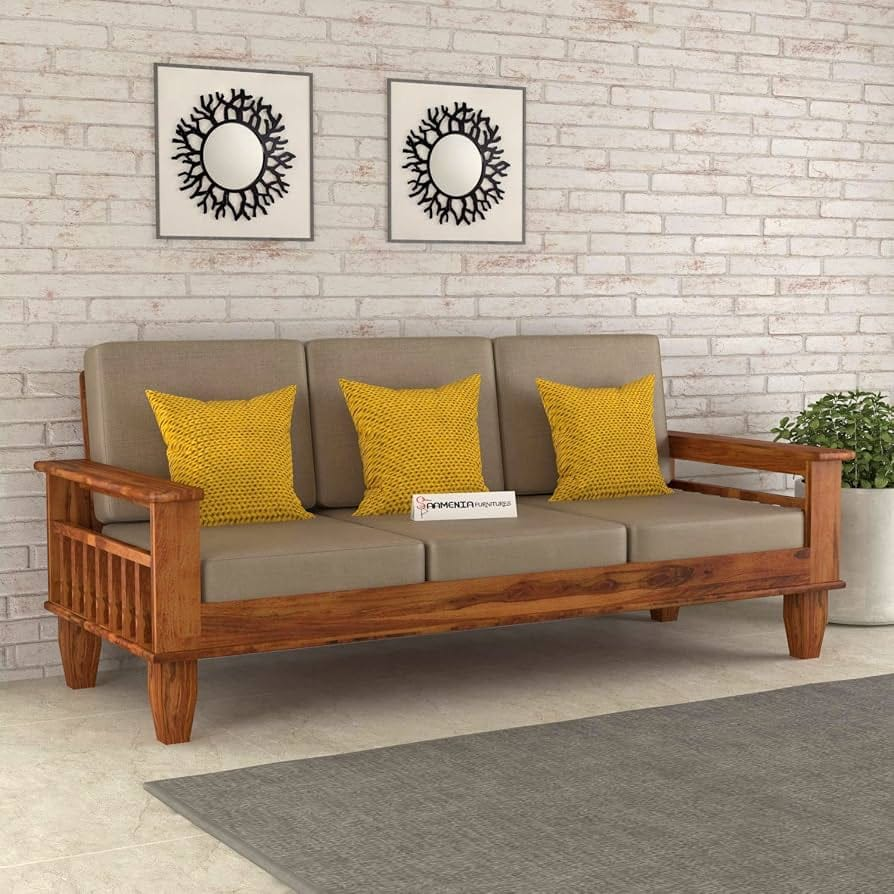3seatersofa: (35, 336, 850, 743)
backrest: (99, 333, 668, 513)
base: (153, 545, 844, 658)
leftarmrest: (668, 431, 852, 582)
leg: (148, 661, 197, 744), (783, 590, 827, 658), (58, 619, 101, 688)
pillow: (146, 385, 312, 525), (340, 374, 486, 515), (537, 375, 670, 501)
rightarmrest: (36, 459, 201, 656)
seat: (201, 491, 803, 603)
